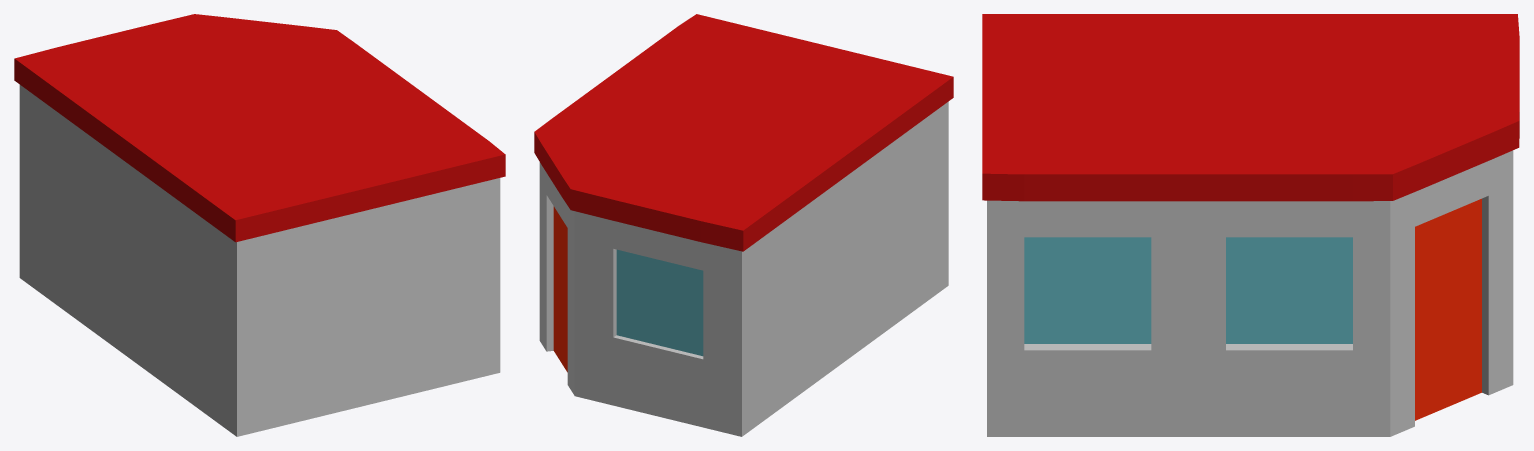
The model's file is town-house-b.glb.
The picture shows the model from 3 angles, left to right: view 1: azimuth 30°, elevation 25°; view 2: azimuth 150°, elevation 25°; view 3: azimuth 270°, elevation 25°; orthographic projection. The views are drawn at different scales.
Visible parts, largest first — view 1: Building_15; view 2: Building_15; view 3: Building_15.
Part boxes in pixels (x1,y1,x2,y2): Building_15: (14, 14, 505, 436); Building_15: (534, 14, 953, 436); Building_15: (982, 14, 1519, 436).
Size of the model in its own units: 3.89 by 3 by 5.51.
